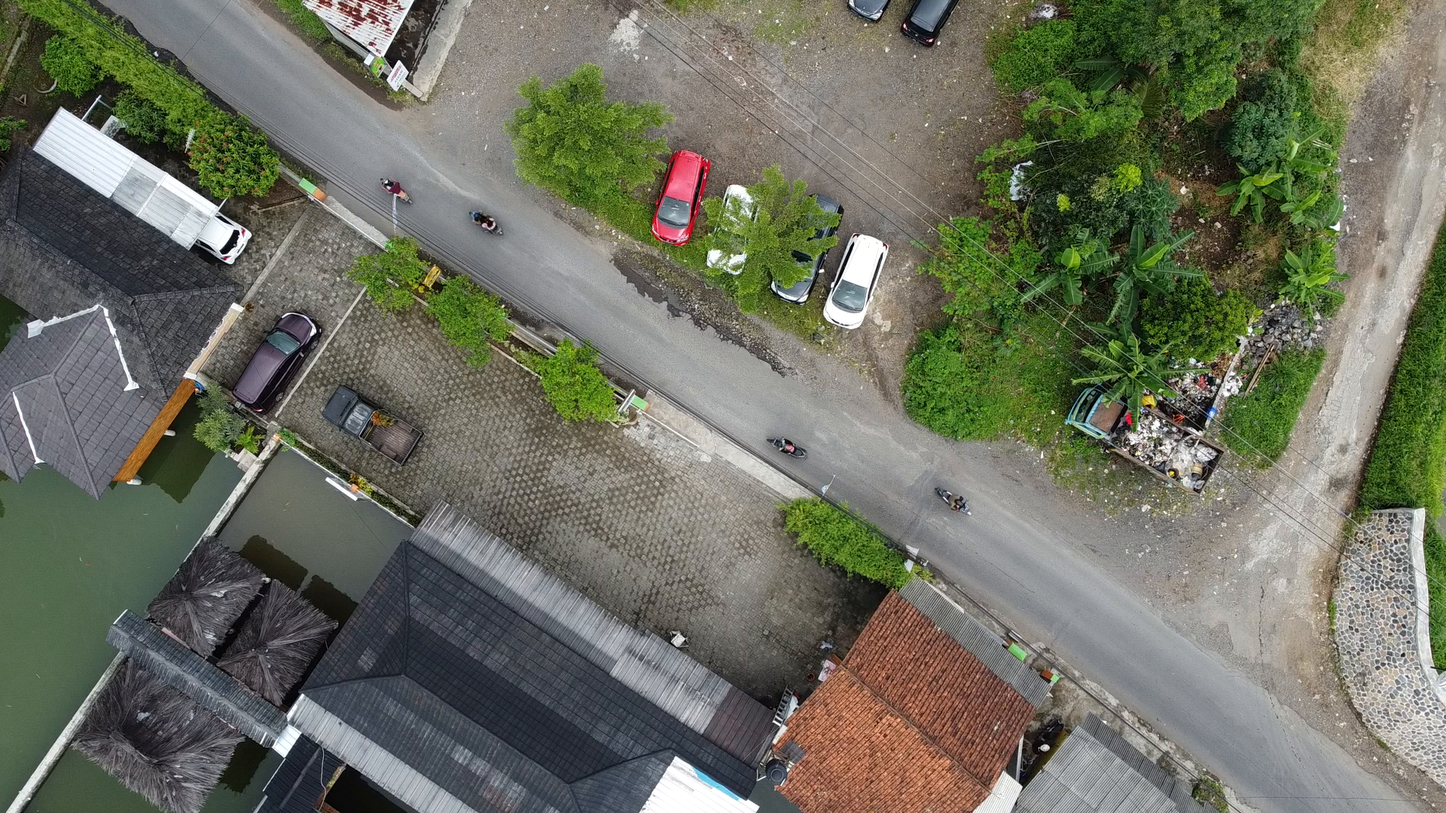mobil: (771, 187, 853, 316), (233, 305, 328, 411), (314, 383, 432, 464), (819, 230, 898, 337), (642, 145, 716, 258), (708, 179, 764, 283), (194, 206, 256, 271), (894, 2, 956, 51)
